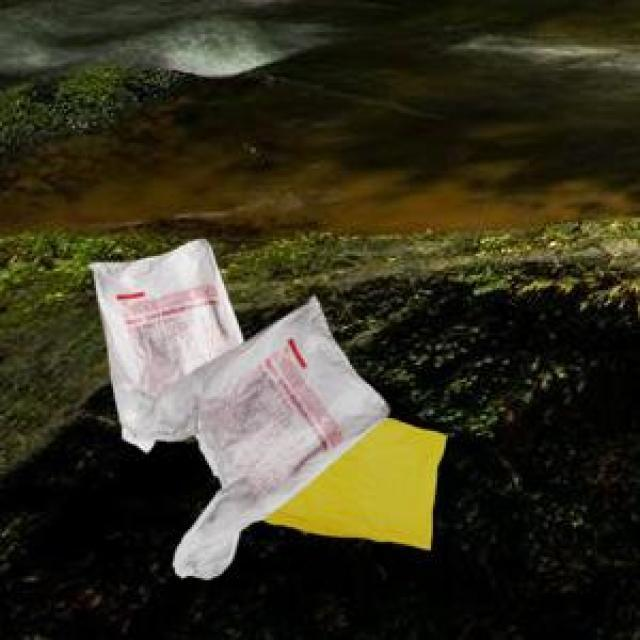Bolsa-de-plastico: (90, 239, 443, 579)
